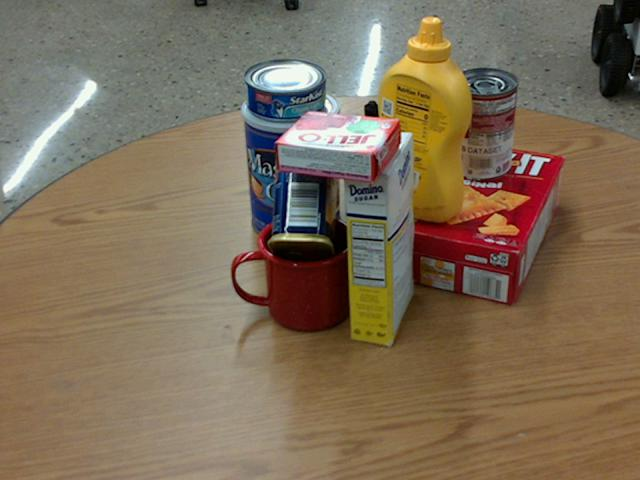cracker_box: (359, 134, 562, 304)
gelatin_box: (273, 109, 401, 183)
large_marker: (362, 102, 378, 201)
master_chef_can: (242, 85, 341, 242)
mug: (228, 213, 352, 331)
mustard_bottle: (372, 17, 471, 222)
potted_meat_can: (267, 149, 336, 267)
sugar_box: (341, 130, 412, 345)
tomato_soup_can: (449, 67, 516, 180)
tuna_fish_can: (243, 58, 325, 119)
